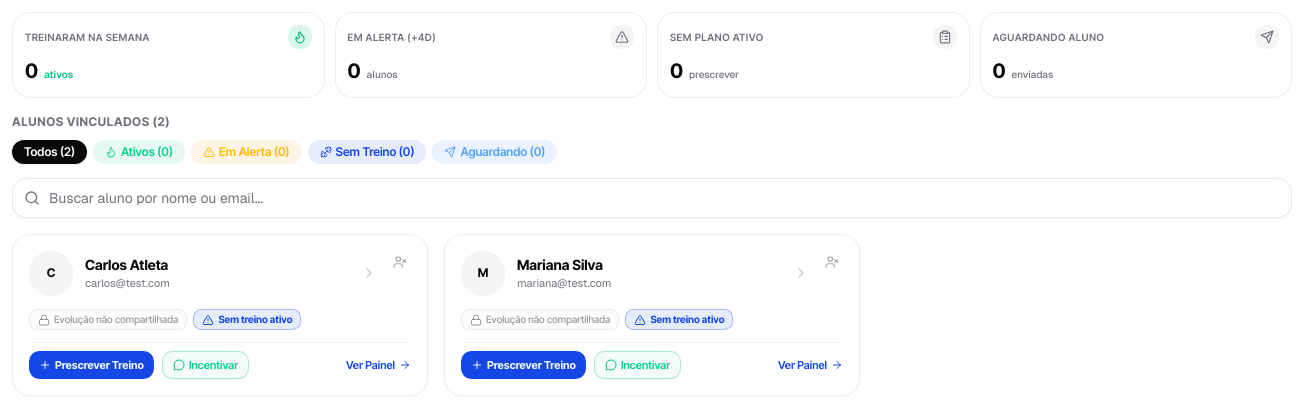
Test: TASK 6.2A — Coach Athlete Overview & Details UI › 1. AthletesList — Busca em tempo real e Navegação para Detalhes › exibe mensagem amigável quando nenhum aluno corresponde à busca
The image size is (1304, 413).
Type "Inexistente" into the field with placeholder "Buscar aluno por nome ou email..." at (652, 198), box x1=12 y1=178 x2=1292 y2=218
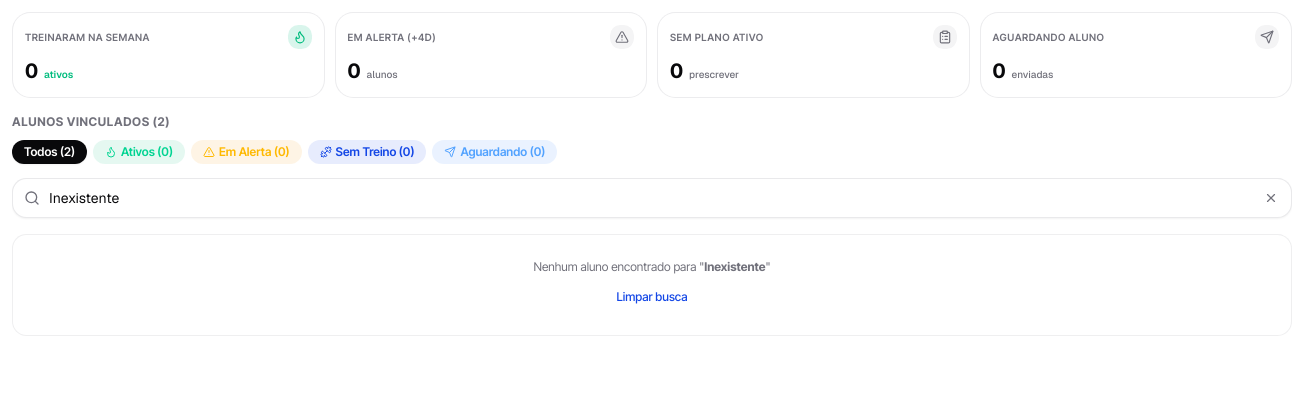
Check: the text "Nenhum aluno encontrado para \"Inexistente\"" is shown, box x1=533 y1=259 x2=770 y2=275
Check: the button "Limpar busca" is shown
Note: Limpar busca restaura a lista
Click the button "Limpar busca" at (652, 297), box x1=604 y1=283 x2=700 y2=311
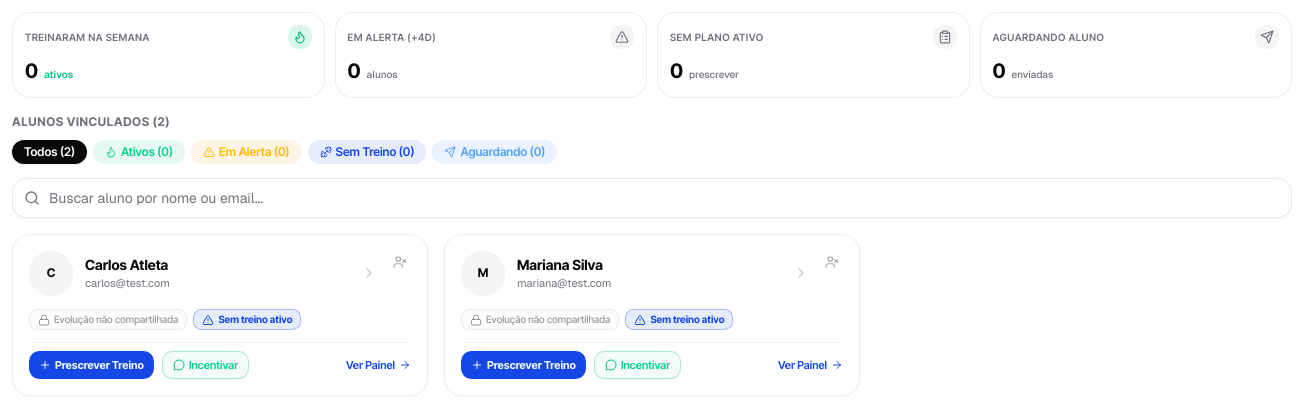
Check: the text "Carlos Atleta" is shown, box x1=85 y1=255 x2=168 y2=275
Check: the text "Mariana Silva" is shown, box x1=517 y1=255 x2=603 y2=275
